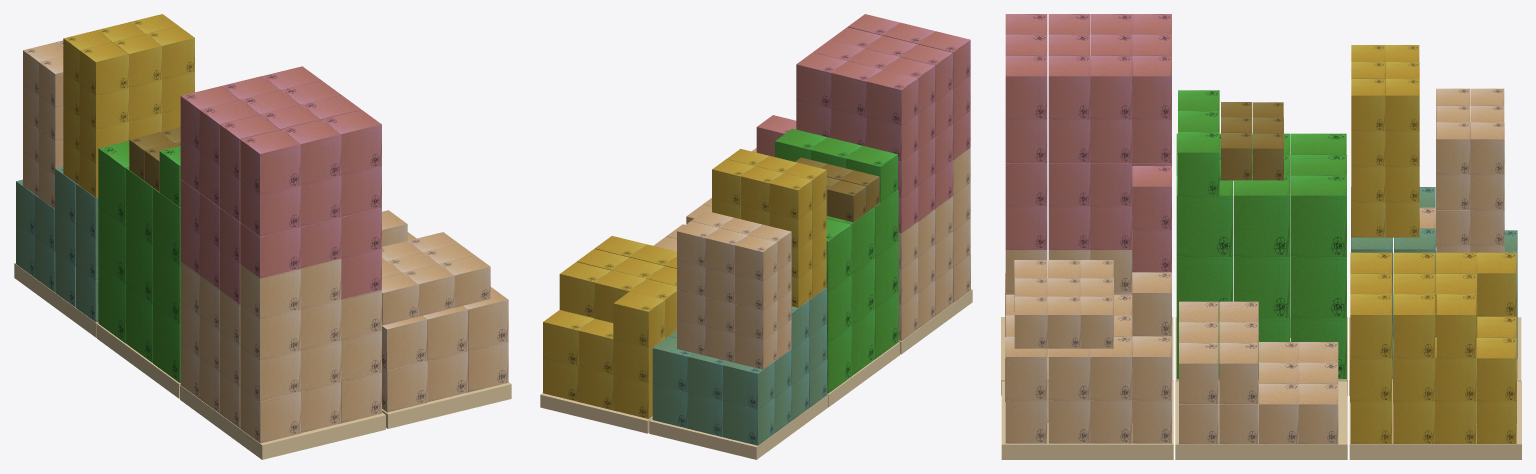
Rendered from all_scene.gltf.
The picture shows the model from 3 angles, left to right: view 1: azimuth 30°, elevation 25°; view 2: azimuth 150°, elevation 25°; view 3: azimuth 270°, elevation 25°; orthographic projection. The views are drawn at different scales.
Visible parts, largest first — view 1: Куб.7 (×36), Куб.8 (×14), Куб.1 (×11), Куб.6 (×13), Куб.9 (×12), Куб.2 (×11), Куб.5 (×7), pl, Куб.3, Куб, Куб.4 (×2); view 2: Куб.9 (×26), Куб.7 (×24), Куб.2 (×11), Куб.8 (×13), Куб.6 (×14), Куб.1 (×11), pl, Куб.4 (×5), Куб.5 (×3); view 3: Куб.7 (×30), Куб.8 (×24), Куб.9 (×17), Куб.6 (×16), pl, Куб.10 (×2), Cube.1 (×4), Cube (×4), Cube.3 (×3), Cube.2 (×3), Куб.4 (×3), Куб.2 (×3) (+4 smaller).
Boxes of the visible parts, bbox=[...] form: Куб.7 (×36): bbox=[75, 14, 508, 443]; Куб.8 (×14): bbox=[35, 26, 490, 413]; Куб.1 (×11): bbox=[39, 42, 152, 362]; Куб.6 (×13): bbox=[55, 95, 458, 428]; Куб.9 (×12): bbox=[16, 66, 407, 398]; Куб.2 (×11): bbox=[23, 30, 129, 342]; Куб.5 (×7): bbox=[113, 34, 422, 382]; pl: bbox=[14, 263, 511, 459]; Куб.3: bbox=[403, 264, 454, 316]; Куб: bbox=[382, 273, 418, 325]; Куб.4 (×2): bbox=[96, 22, 438, 272]; Куб.9 (×26): bbox=[543, 52, 918, 445]; Куб.7 (×24): bbox=[594, 14, 970, 407]; Куб.2 (×11): bbox=[734, 173, 851, 393]; Куб.8 (×13): bbox=[594, 39, 935, 433]; Куб.6 (×14): bbox=[576, 27, 952, 420]; Куб.1 (×11): bbox=[749, 163, 874, 375]; pl: bbox=[540, 289, 972, 459]; Куб.4 (×5): bbox=[705, 166, 783, 362]; Куб.5 (×3): bbox=[875, 190, 898, 358]; Куб.7 (×30): bbox=[1005, 14, 1504, 443]; Куб.8 (×24): bbox=[1014, 14, 1477, 443]; Куб.9 (×17): bbox=[1132, 14, 1516, 443]; Куб.6 (×16): bbox=[1048, 14, 1435, 443]; pl: bbox=[1001, 317, 1521, 459]; Куб.10 (×2): bbox=[1176, 175, 1232, 317]; Cube.1 (×4): bbox=[1219, 301, 1258, 444]; Cube (×4): bbox=[1179, 301, 1218, 444]; Cube.3 (×3): bbox=[1298, 342, 1338, 444]; Cube.2 (×3): bbox=[1259, 342, 1298, 444]; Куб.4 (×3): bbox=[1047, 62, 1504, 296]; Куб.2 (×3): bbox=[1080, 45, 1504, 278].
Size of the model in its own units: 404 by 470 by 696.
9 materials, 8 textured.
